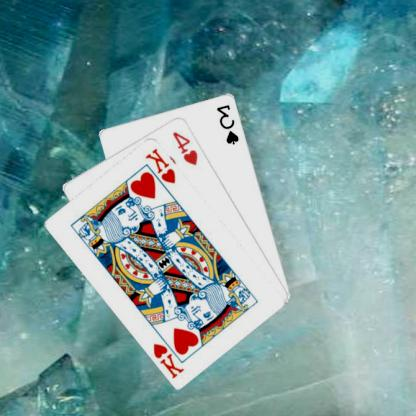3S: (216, 101, 243, 145)
4H: (172, 128, 202, 166)
KH: (152, 340, 188, 380), (144, 145, 179, 185)
